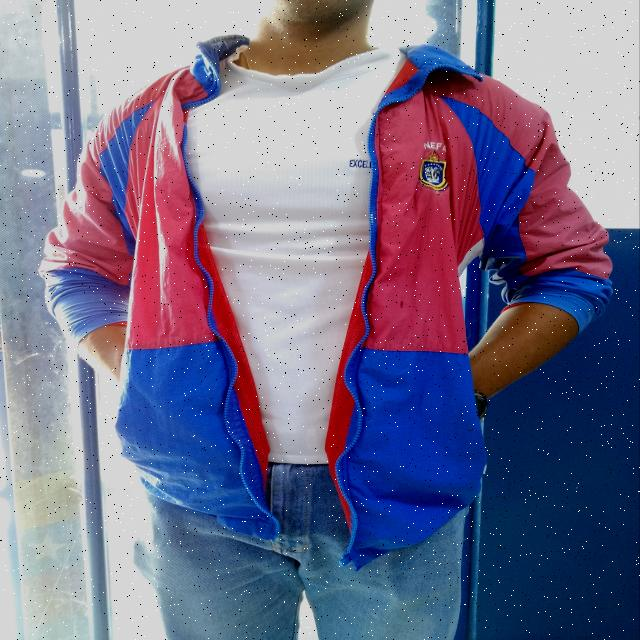chaqueta_unefa: (35, 34, 617, 572)
